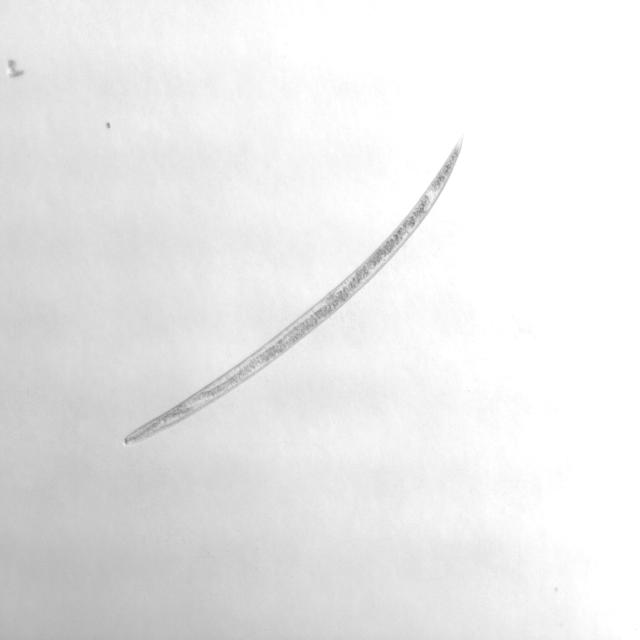Radopholus: (113, 123, 469, 451)
